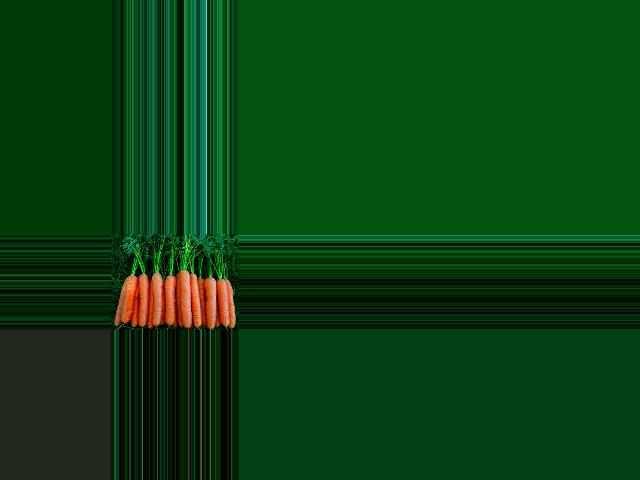carrot: (226, 280, 233, 330)
